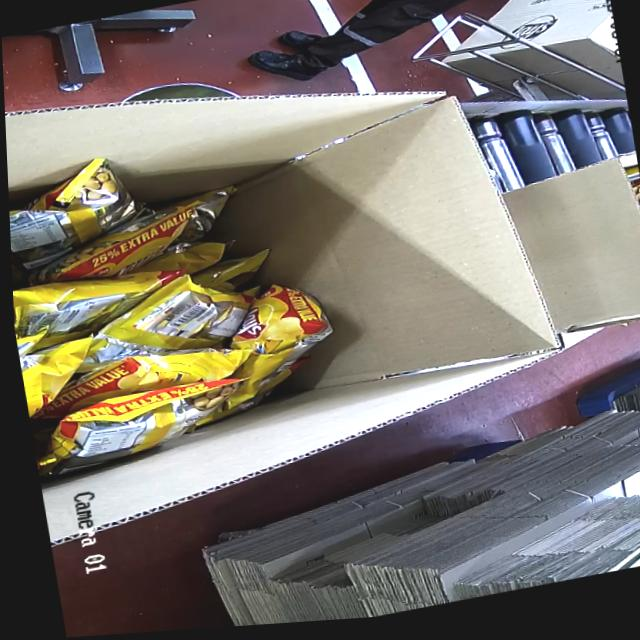SALTED: (5, 97, 354, 490), (622, 159, 640, 292)
